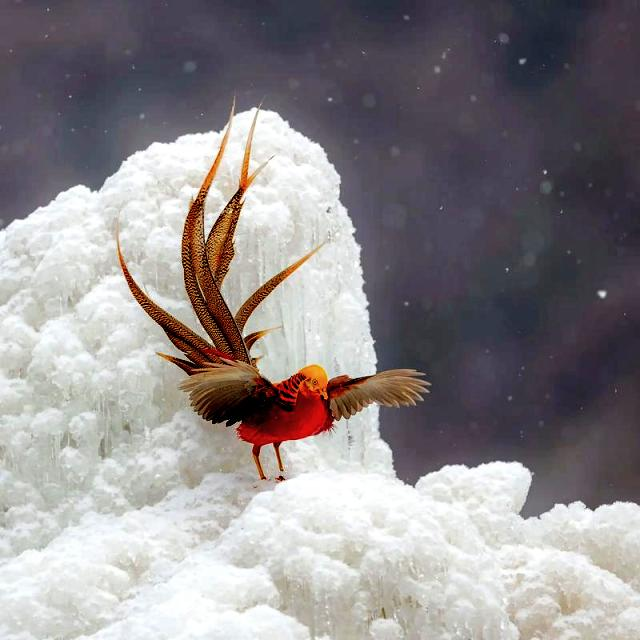Chrysolophus pictus feather: (115, 98, 331, 378)
